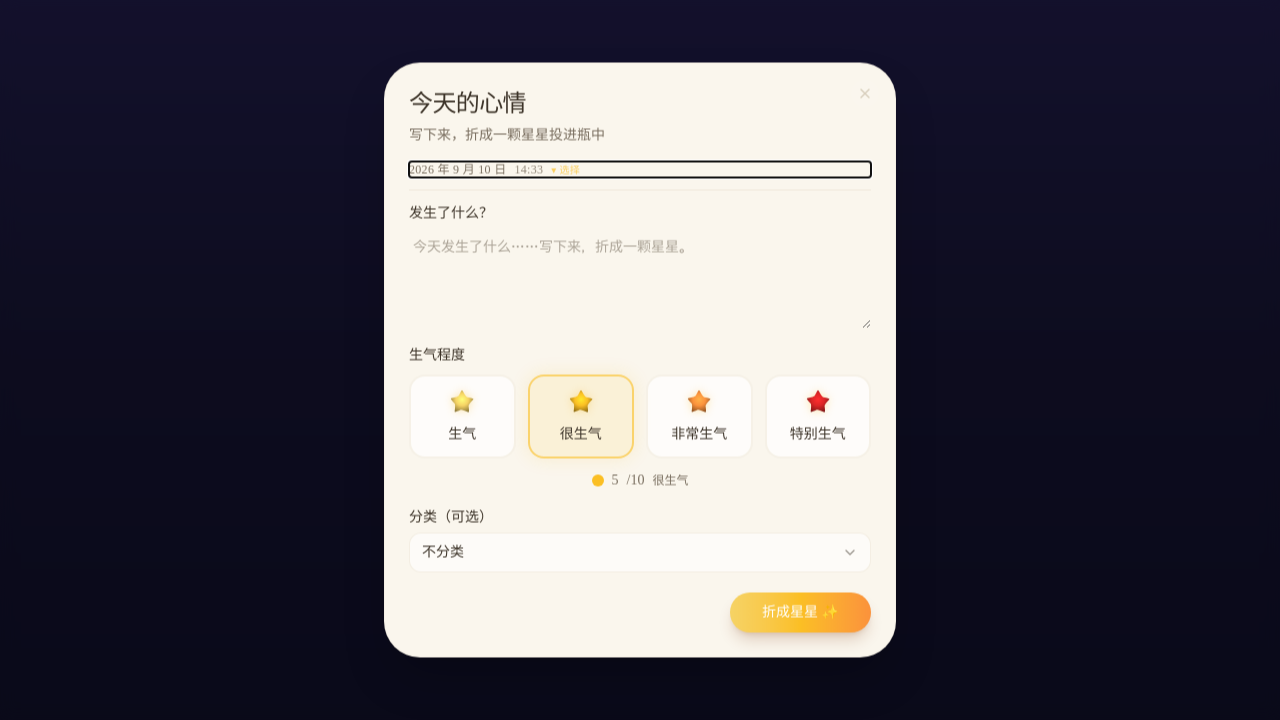
Test: LogFormDialog › 拒绝邀请时不出现呼吸引导
Click the button with test id "mood-特别生气" at (818,416), box [764,374,871,458]
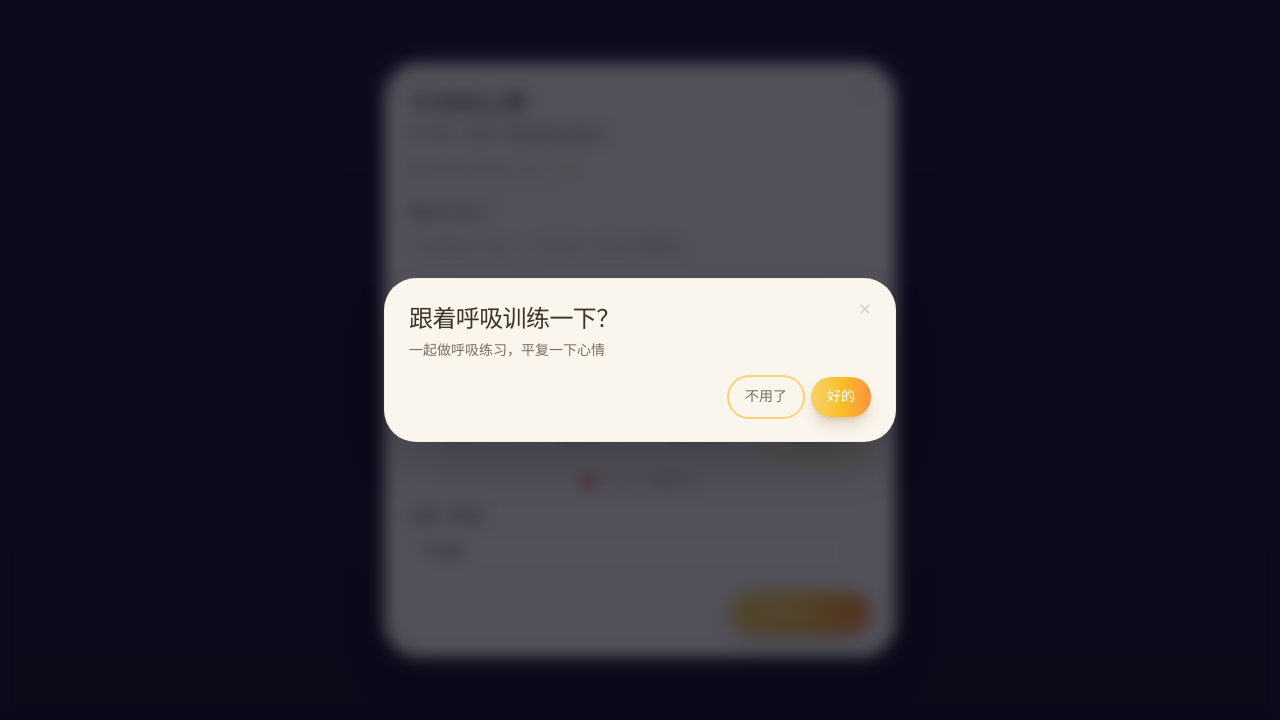
Click the button "不用了" at (766,397), box [729,377,803,417]
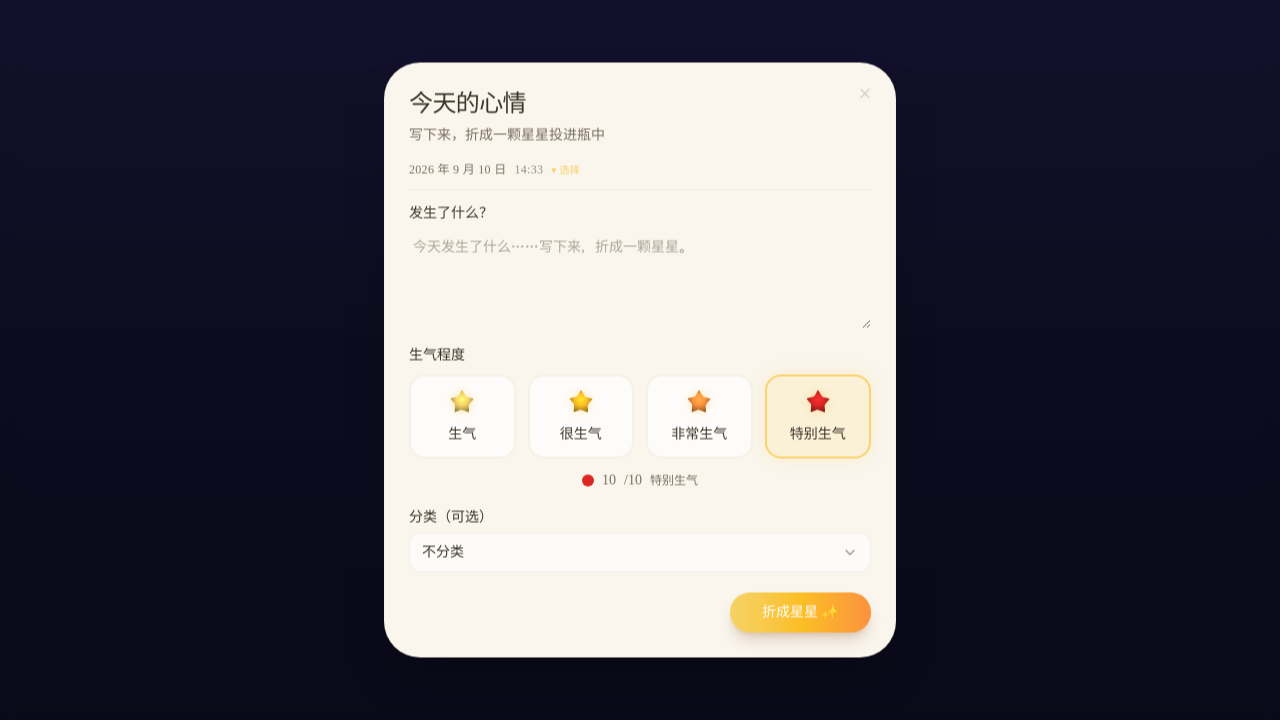
Now the heading "跟着呼吸训练一下？" is gone
